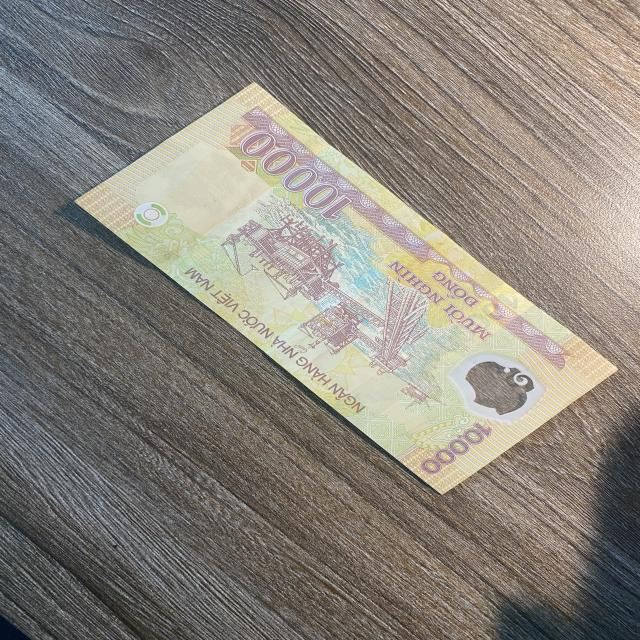10 000 VND: (72, 80, 621, 497)
